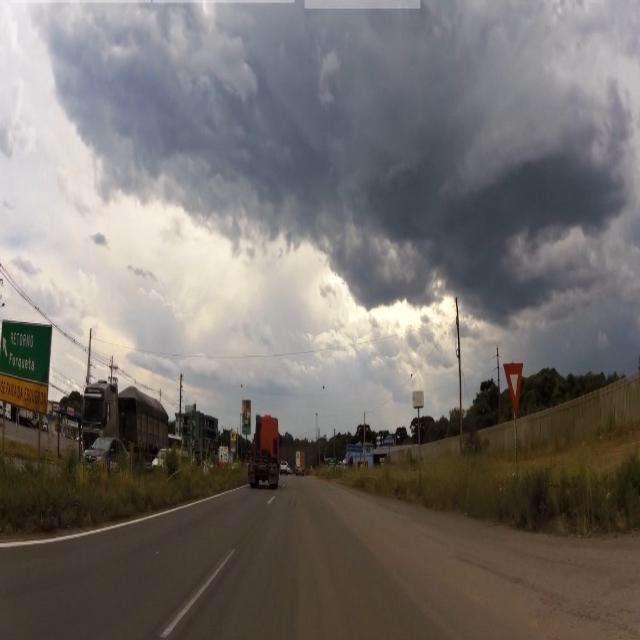R-2: (503, 356, 529, 416)
